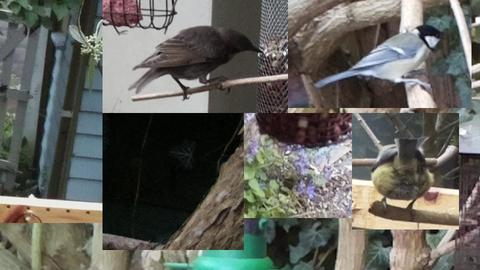blue tit: (370, 138, 434, 222)
great tit: (313, 25, 446, 92)
starling: (128, 25, 263, 101)
